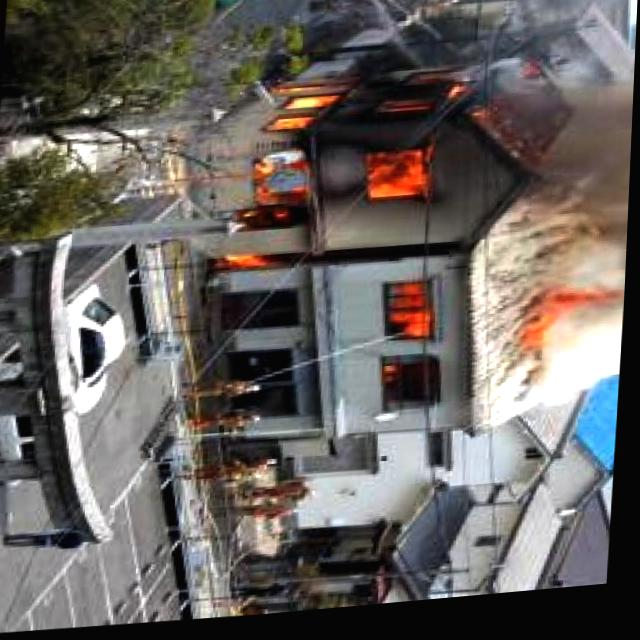helmet: (196, 51, 477, 288), (376, 280, 437, 416), (519, 287, 603, 368)
no_helmet: (484, 86, 635, 293), (480, 355, 625, 448)
